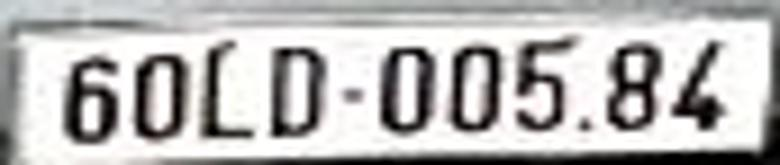-: (341, 85, 365, 105)
.: (576, 109, 597, 137)
0: (376, 47, 437, 134), (447, 38, 502, 133), (132, 54, 185, 142)
4: (671, 37, 734, 134)
5: (515, 34, 572, 133)
6: (63, 54, 120, 148)
8: (604, 39, 663, 132)
D: (266, 42, 326, 144)
L: (201, 41, 256, 145)
